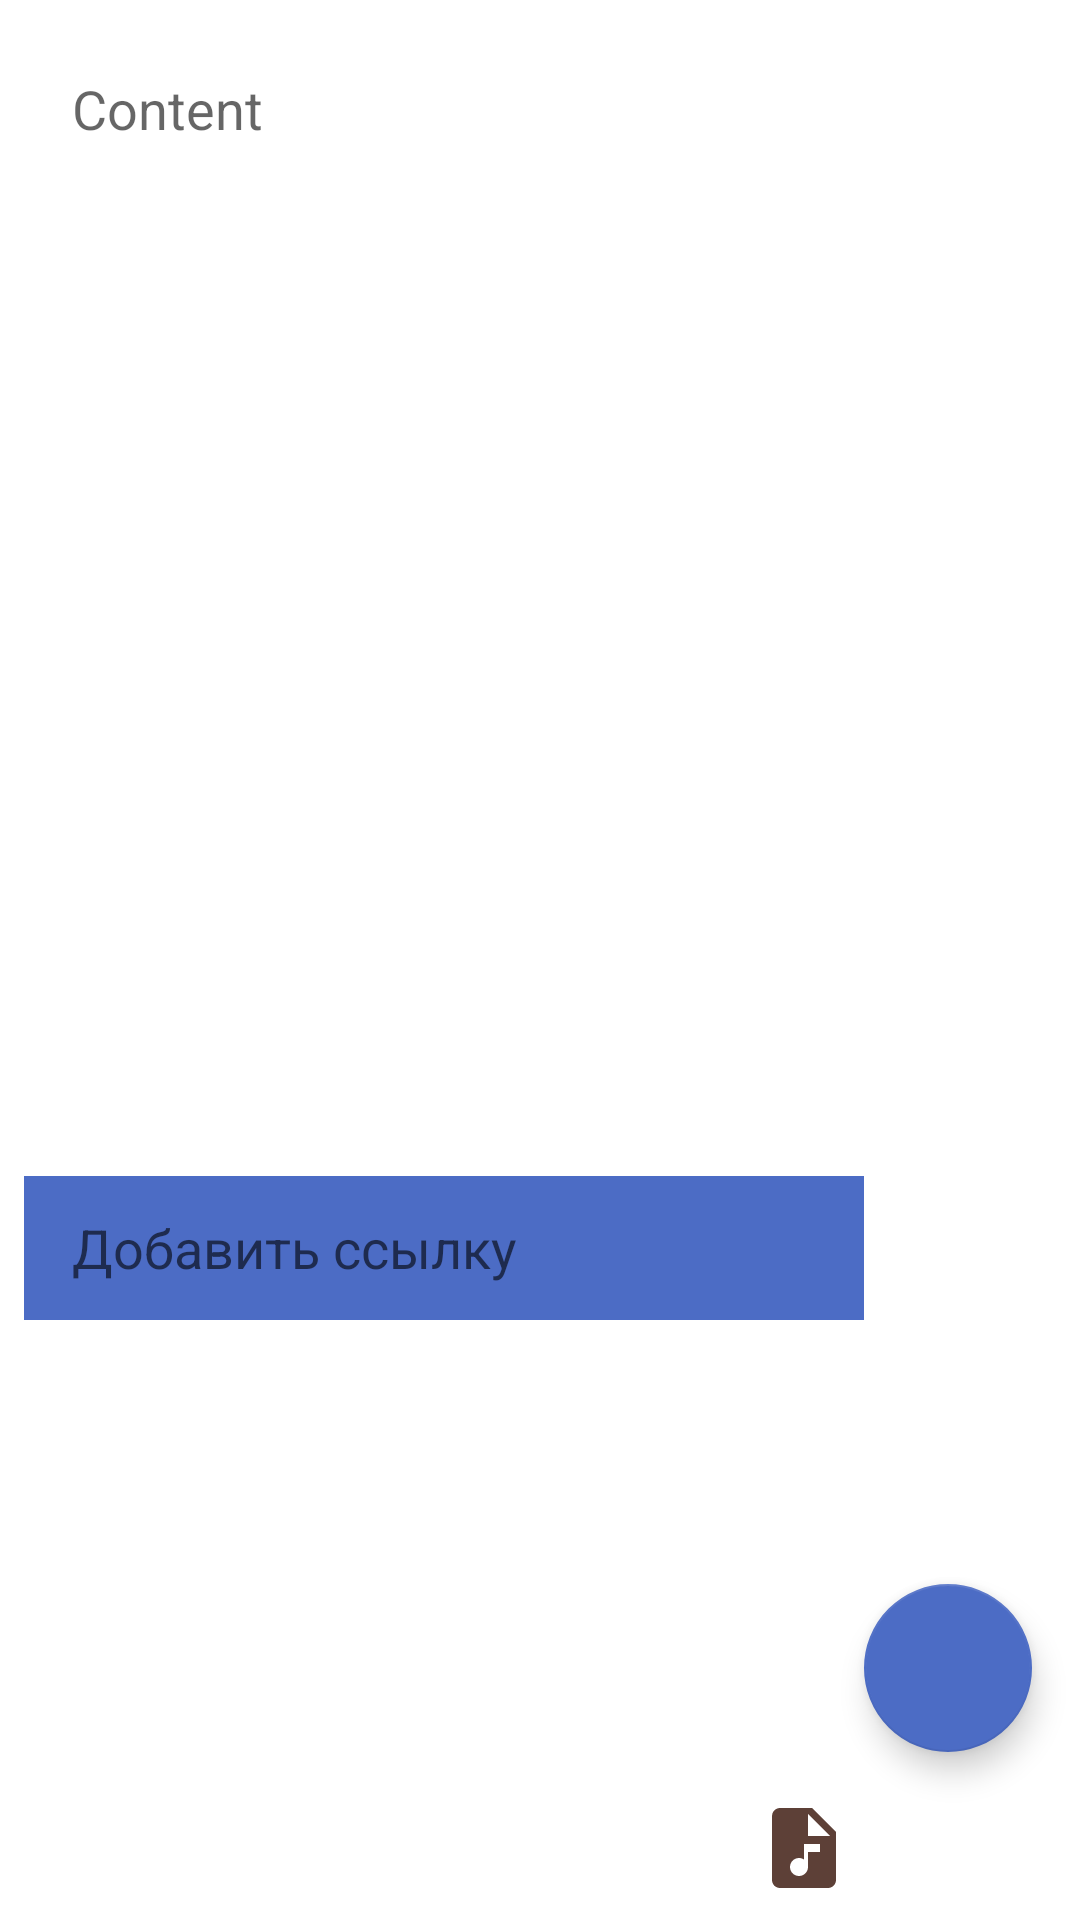

Icons on this 1080×1920 Android screen, each with its box as (x1, y1, x2, y2):
Добавить аудио: (772, 1808, 836, 1888)
